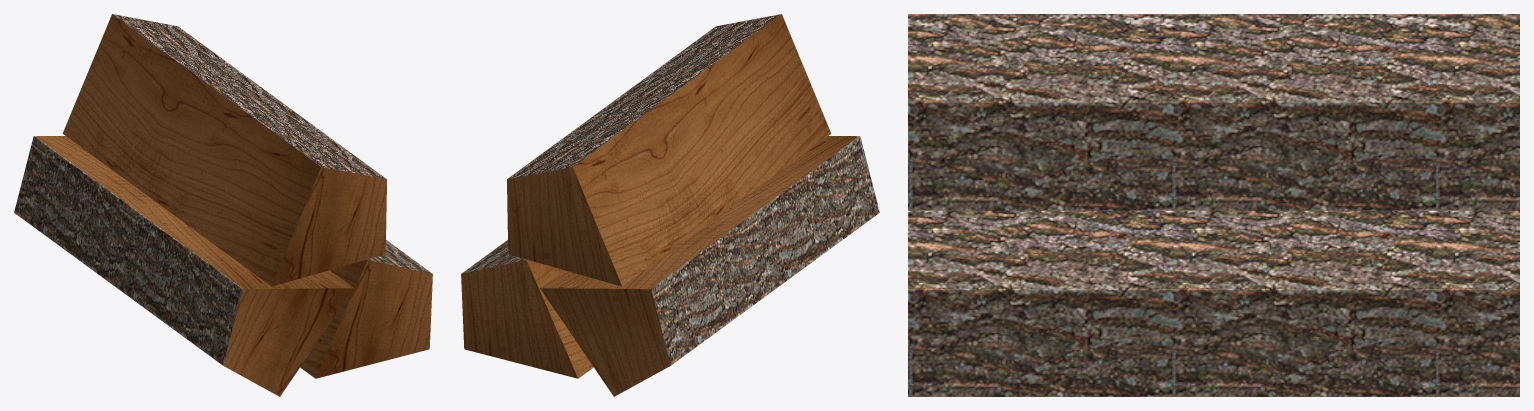
The model's file is Prop_SM_Log.fbx.
3 renders of one model, left to right at view 1: azimuth 30°, elevation 25°; view 2: azimuth 150°, elevation 25°; view 3: azimuth 270°, elevation 25°, orthographic. The views are drawn at different scales.
Visible parts, largest first — view 1: polySurface1; view 2: polySurface1; view 3: polySurface1.
Boxes of the visible parts, bbox=[...] form: polySurface1: bbox=[14, 14, 432, 396]; polySurface1: bbox=[461, 14, 879, 396]; polySurface1: bbox=[908, 14, 1519, 396].
Size of the model in its own units: 0.4346 by 0.4353 by 0.7502.
